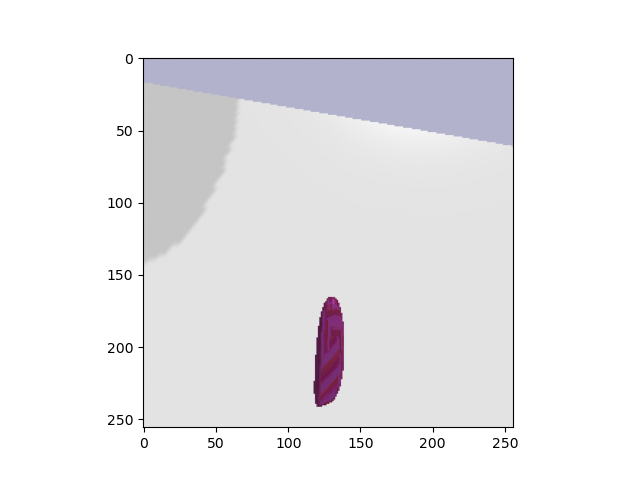v249b387_105: (303, 292, 359, 410)
